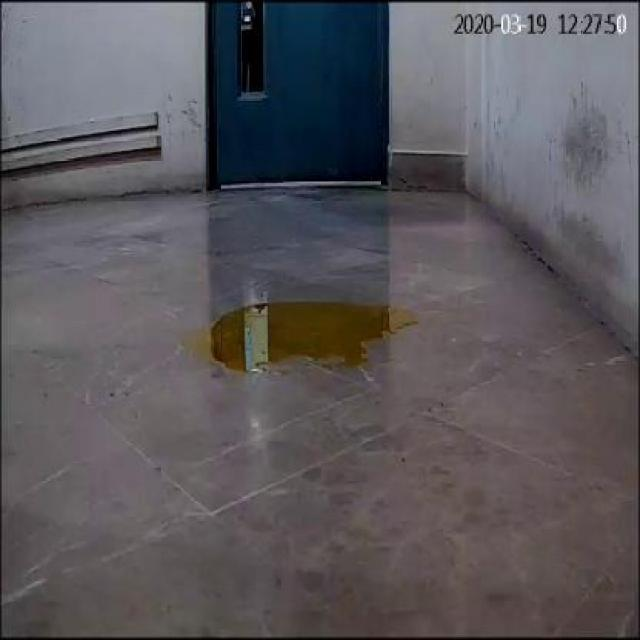spill: (194, 302, 418, 375)
